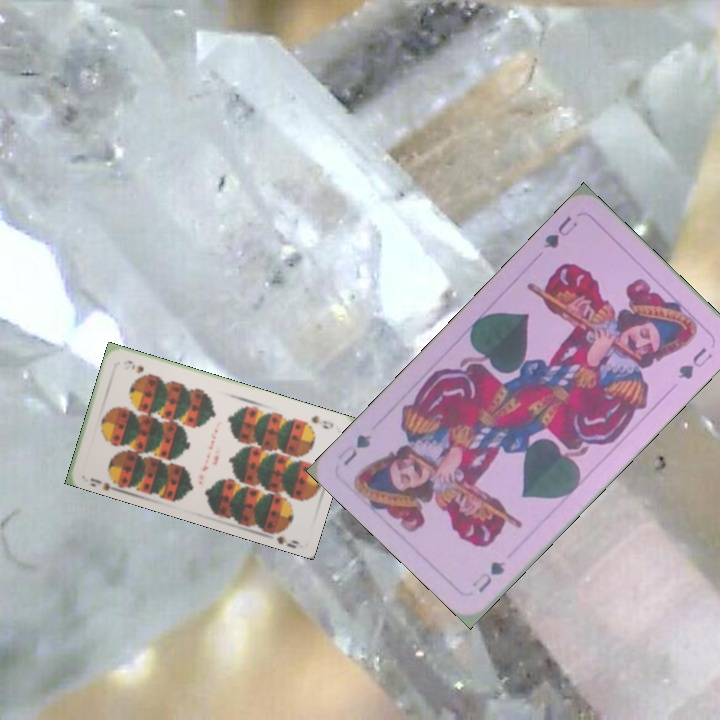GU: (539, 212, 581, 252), (468, 557, 509, 596)
S9: (86, 472, 122, 490), (307, 411, 336, 432)
